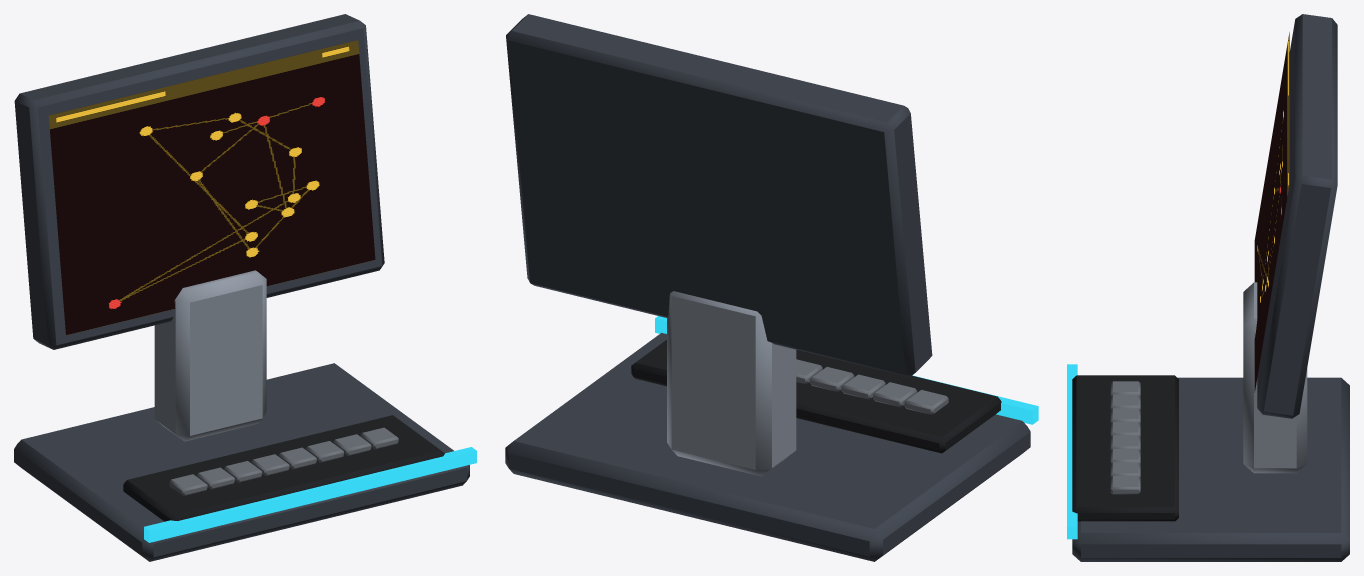
The model's file is terminal_desk_terminal.glb.
3 renders of one model, left to right at view 1: azimuth 30°, elevation 25°; view 2: azimuth 150°, elevation 25°; view 3: azimuth 270°, elevation 25°, orthographic. The views are drawn at different scales.
Parts seen in each view (by area): view 1: terminal_desk_terminal; view 2: terminal_desk_terminal; view 3: terminal_desk_terminal.
Boxes of the visible parts, box(x1,y1,x2,y2) form: terminal_desk_terminal: box(14, 14, 476, 561); terminal_desk_terminal: box(505, 14, 1038, 561); terminal_desk_terminal: box(1067, 14, 1349, 561).
Bounding box in the file's own units: 0.37 × 0.4026 × 0.265.
Materials: 6 (1 with a texture image).
